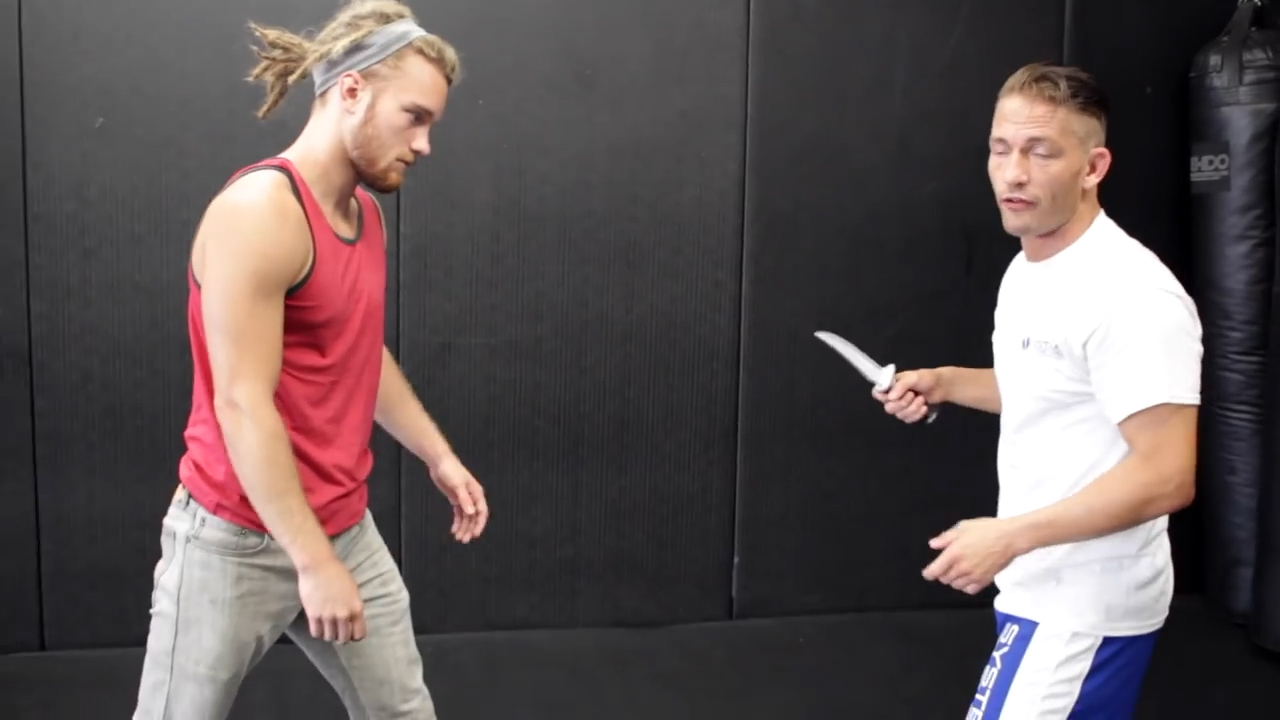knife: (804, 319, 949, 432)
